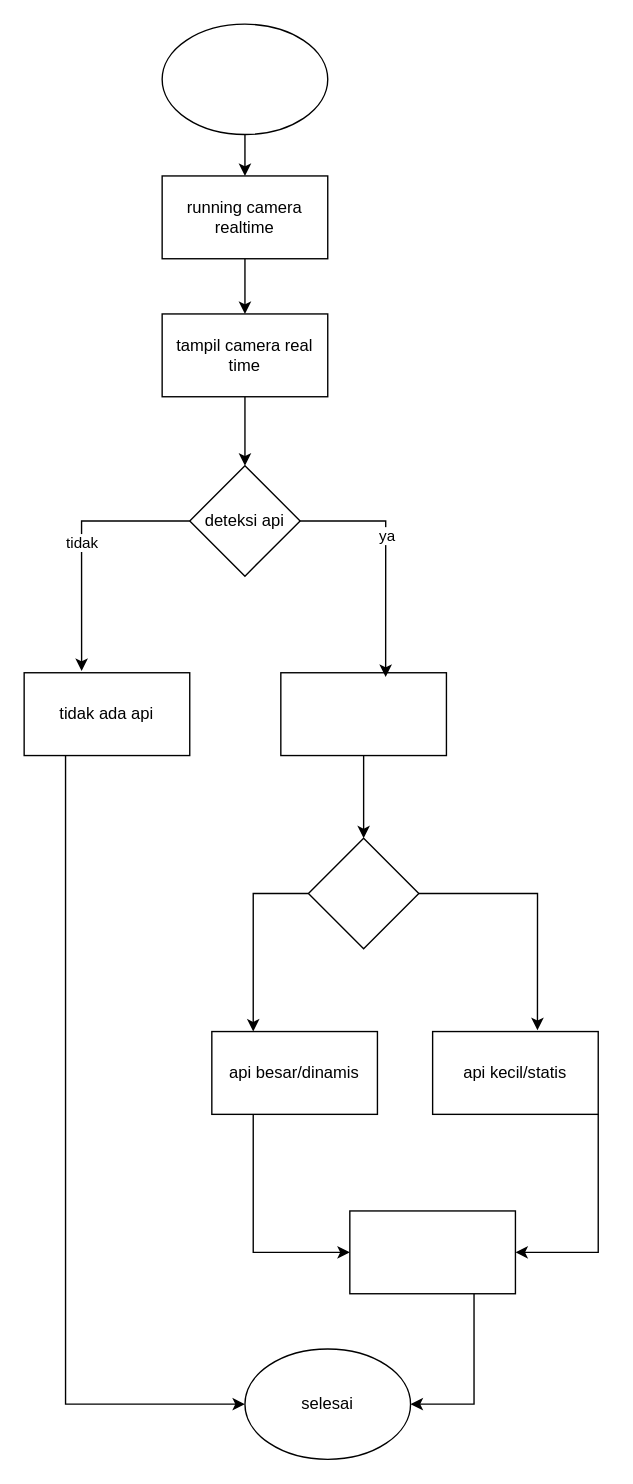
The diagram is 633 pixels wide and 1484 high, and some of its shapes have lost their labels. Each missing label, with the centre of its shape:
mulai: point (244, 79)
treshold: point (362, 713)
ukuran: point (363, 893)
visualisasi hasil: point (431, 1252)
